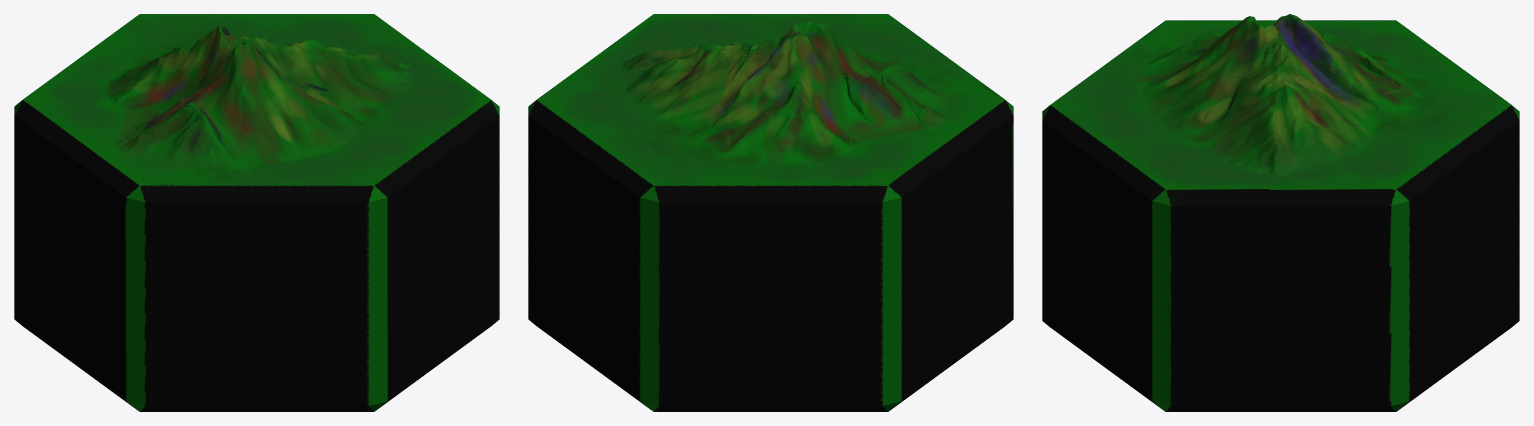
Rendered from 01.Green (large).fbx.
The picture shows the model from 3 angles, left to right: view 1: azimuth 30°, elevation 25°; view 2: azimuth 150°, elevation 25°; view 3: azimuth 270°, elevation 25°; orthographic projection.
Visible parts, largest first — view 1: 01.Green; view 2: 01.Green; view 3: 01.Green.
Part boxes in pixels (<box>): 01.Green: <box>14,14,499,411</box>; 01.Green: <box>528,14,1013,411</box>; 01.Green: <box>1042,14,1519,411</box>.
Size of the model in its own units: 447 by 347 by 504.
1 material, 1 textured.
